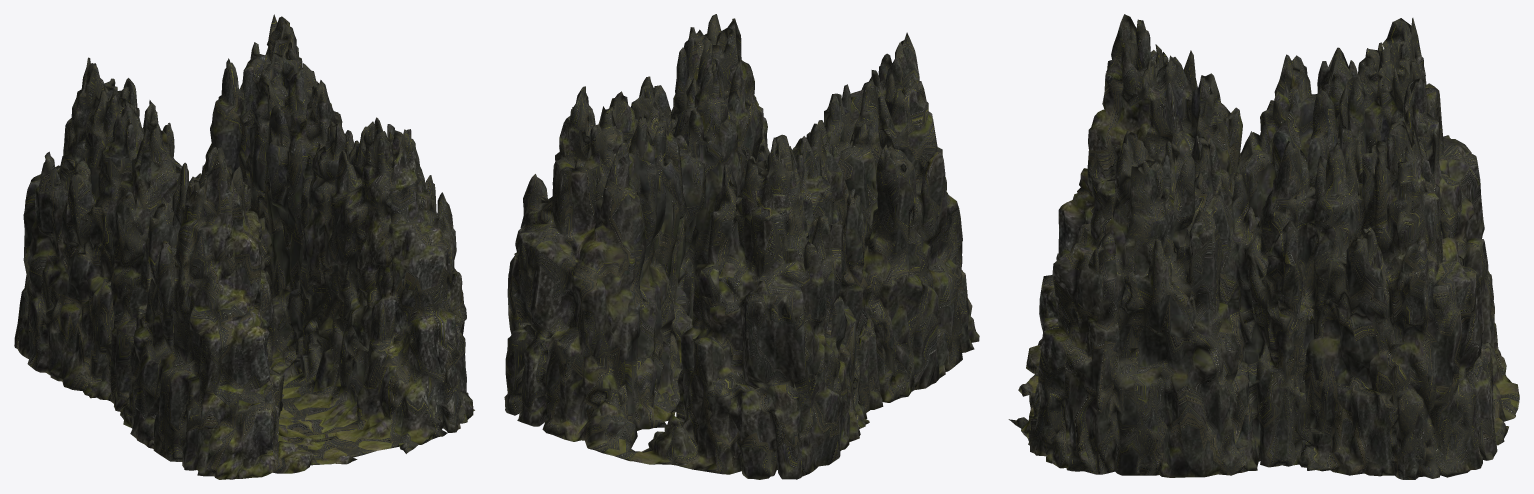
File: troll-gorge.glb
The picture shows the model from 3 angles, left to right: view 1: azimuth 30°, elevation 25°; view 2: azimuth 150°, elevation 25°; view 3: azimuth 270°, elevation 25°; orthographic projection. The views are drawn at different scales.
Size of the model in its own units: 1.46 by 1.38 by 1.9.
1 material, 1 textured.
